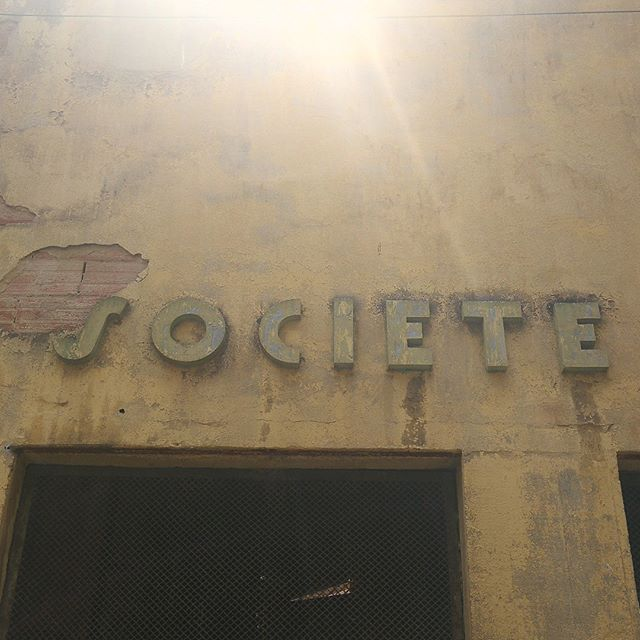building: (11, 1, 640, 635)
sign: (1, 262, 621, 428)
